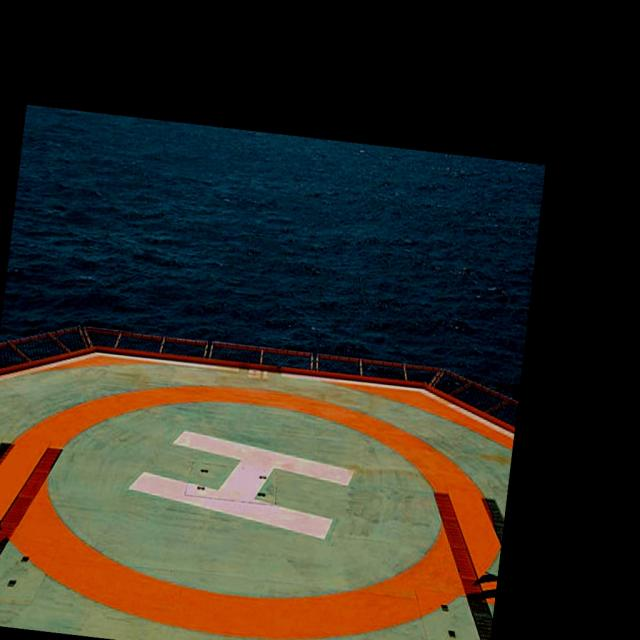helipad: (0, 380, 511, 639)
